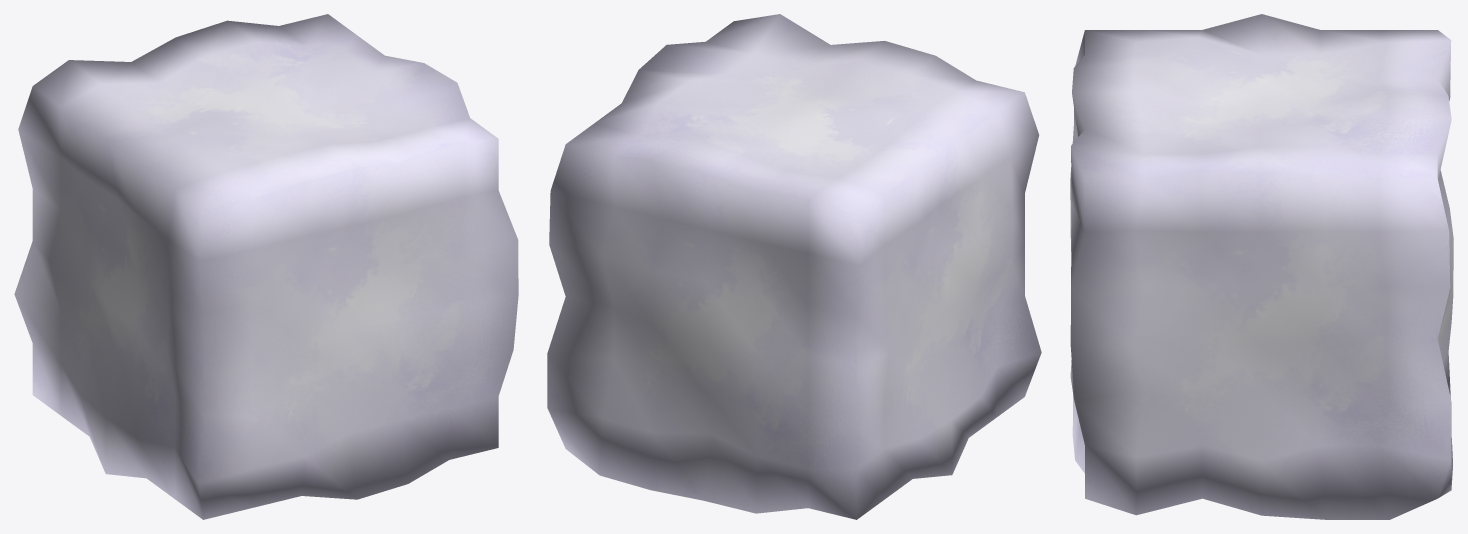
Rendered from FogOfWar3.fbx.
The picture shows the model from 3 angles, left to right: view 1: azimuth 30°, elevation 25°; view 2: azimuth 150°, elevation 25°; view 3: azimuth 270°, elevation 25°; orthographic projection. The views are drawn at different scales.
Parts seen in each view (by area): view 1: Cube; view 2: Cube; view 3: Cube.
Part boxes in pixels (left/top/right/bottom): Cube: left=14, top=14, right=518, bottom=519; Cube: left=547, top=14, right=1041, bottom=519; Cube: left=1070, top=14, right=1453, bottom=519.
Size of the model in its own units: 400 by 400 by 400.
1 material, 1 textured.
